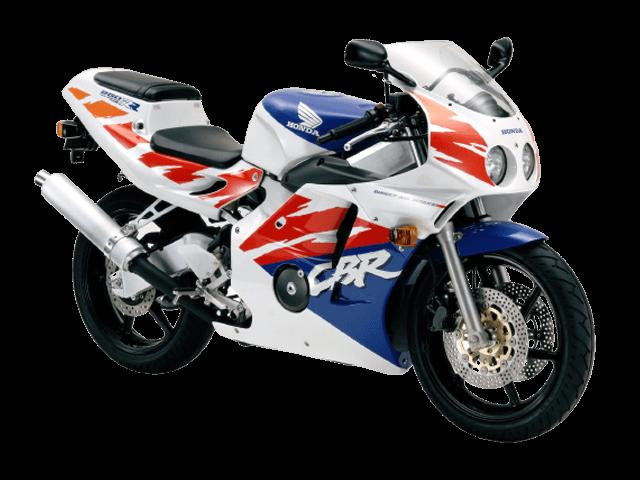motorbike: (34, 37, 595, 442)
